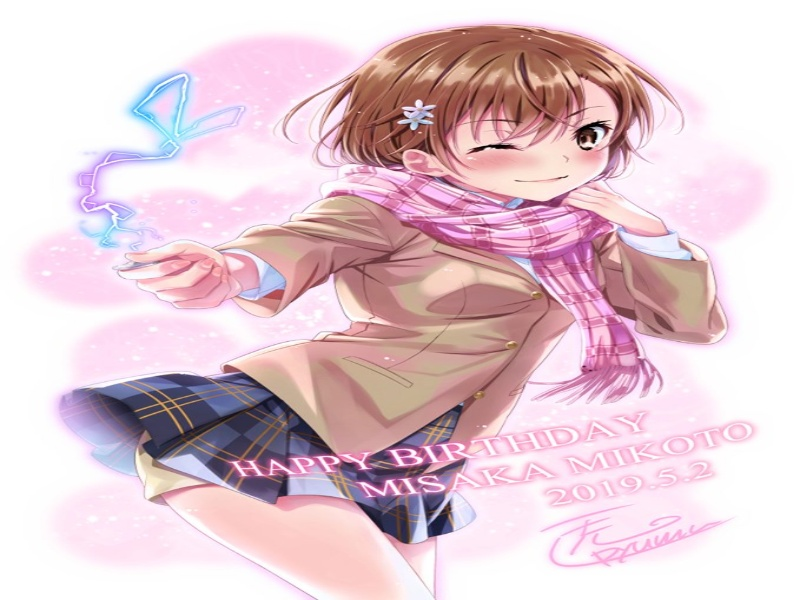dress: (54, 310, 553, 562)
person: (322, 17, 664, 235)
